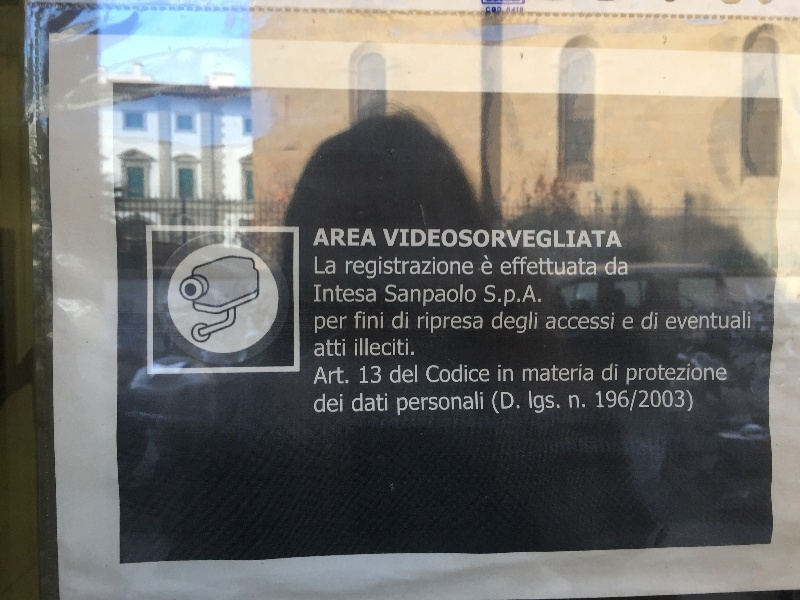text: (497, 389, 512, 416), (513, 389, 528, 416), (529, 389, 544, 416), (545, 389, 560, 416), (561, 389, 576, 416), (577, 389, 592, 416), (593, 389, 608, 416), (609, 389, 624, 416), (625, 389, 640, 416), (641, 389, 656, 416), (657, 389, 672, 416), (673, 389, 688, 416), (401, 391, 416, 416), (417, 391, 432, 416), (433, 391, 448, 416), (449, 391, 464, 416), (465, 391, 480, 416), (385, 284, 400, 308), (401, 284, 416, 308), (417, 284, 432, 308), (433, 284, 448, 308), (449, 284, 464, 308), (353, 256, 368, 279), (369, 256, 384, 279), (385, 256, 400, 279), (401, 256, 416, 279), (417, 256, 432, 279), (433, 256, 448, 279), (449, 256, 464, 279), (497, 285, 512, 308), (513, 285, 528, 308), (433, 312, 448, 334), (449, 312, 464, 334), (465, 312, 480, 334), (497, 311, 512, 333), (513, 311, 528, 333), (641, 364, 656, 386), (657, 364, 672, 386), (673, 364, 688, 386), (689, 364, 704, 386), (705, 364, 720, 386), (385, 229, 400, 250), (401, 229, 416, 250), (417, 229, 432, 250), (433, 229, 448, 250), (449, 229, 464, 250), (465, 229, 480, 250), (481, 229, 496, 250), (497, 229, 512, 250), (513, 229, 528, 250), (529, 229, 544, 250), (545, 229, 560, 250), (561, 229, 576, 250), (577, 229, 592, 250), (593, 229, 608, 250), (609, 229, 624, 250), (418, 312, 432, 334), (321, 256, 337, 275), (577, 364, 593, 383), (513, 256, 528, 276), (529, 256, 544, 276), (545, 256, 560, 276), (561, 256, 576, 276), (577, 256, 592, 276), (609, 256, 624, 276), (321, 315, 336, 335), (321, 338, 336, 358), (321, 394, 336, 414), (353, 393, 368, 413), (369, 393, 384, 413), (529, 285, 542, 308), (482, 255, 496, 276), (627, 364, 640, 386), (369, 311, 384, 330), (369, 338, 384, 357), (385, 338, 400, 357), (561, 312, 576, 331), (577, 312, 592, 331), (593, 312, 608, 331), (673, 312, 688, 331), (689, 312, 704, 331), (705, 312, 720, 331), (721, 312, 736, 331), (321, 366, 336, 385), (401, 365, 416, 384), (529, 364, 544, 383), (545, 364, 560, 383), (561, 364, 576, 383), (484, 285, 496, 308), (321, 229, 336, 247), (337, 229, 352, 247), (353, 229, 368, 247), (321, 285, 336, 303), (337, 285, 352, 303), (353, 285, 368, 303), (433, 365, 448, 383), (449, 365, 464, 383), (465, 365, 480, 383), (354, 311, 368, 330), (354, 338, 368, 357), (401, 338, 415, 357), (737, 312, 751, 331), (465, 284, 476, 308), (642, 312, 656, 330), (498, 365, 512, 383), (547, 312, 560, 331), (369, 366, 382, 384), (337, 366, 349, 385), (501, 256, 512, 276), (465, 256, 474, 279), (337, 315, 347, 335), (529, 311, 538, 333), (390, 365, 400, 384), (609, 363, 619, 382), (337, 338, 346, 358), (481, 365, 490, 383), (369, 229, 377, 247), (401, 312, 409, 330), (360, 366, 368, 384), (346, 256, 352, 279), (721, 364, 727, 386), (369, 285, 376, 303), (393, 312, 400, 330), (314, 338, 320, 358), (314, 394, 320, 414), (337, 394, 343, 414), (625, 317, 634, 330), (314, 256, 320, 275), (609, 312, 615, 331), (522, 364, 528, 383), (314, 285, 320, 303), (492, 389, 496, 416), (689, 389, 693, 416), (315, 315, 320, 335), (667, 312, 672, 331), (603, 363, 608, 382), (427, 365, 432, 383), (593, 256, 597, 276), (397, 391, 400, 416), (481, 391, 484, 416), (513, 7, 524, 13), (481, 312, 484, 334), (493, 311, 496, 333), (625, 256, 628, 276), (385, 393, 388, 413), (487, 7, 496, 13), (606, 256, 608, 276), (657, 312, 659, 330), (497, 7, 502, 13), (507, 7, 512, 13), (383, 229, 384, 250), (319, 366, 320, 385), (417, 365, 418, 384), (319, 229, 320, 247), (513, 365, 514, 383), (623, 317, 624, 330)
